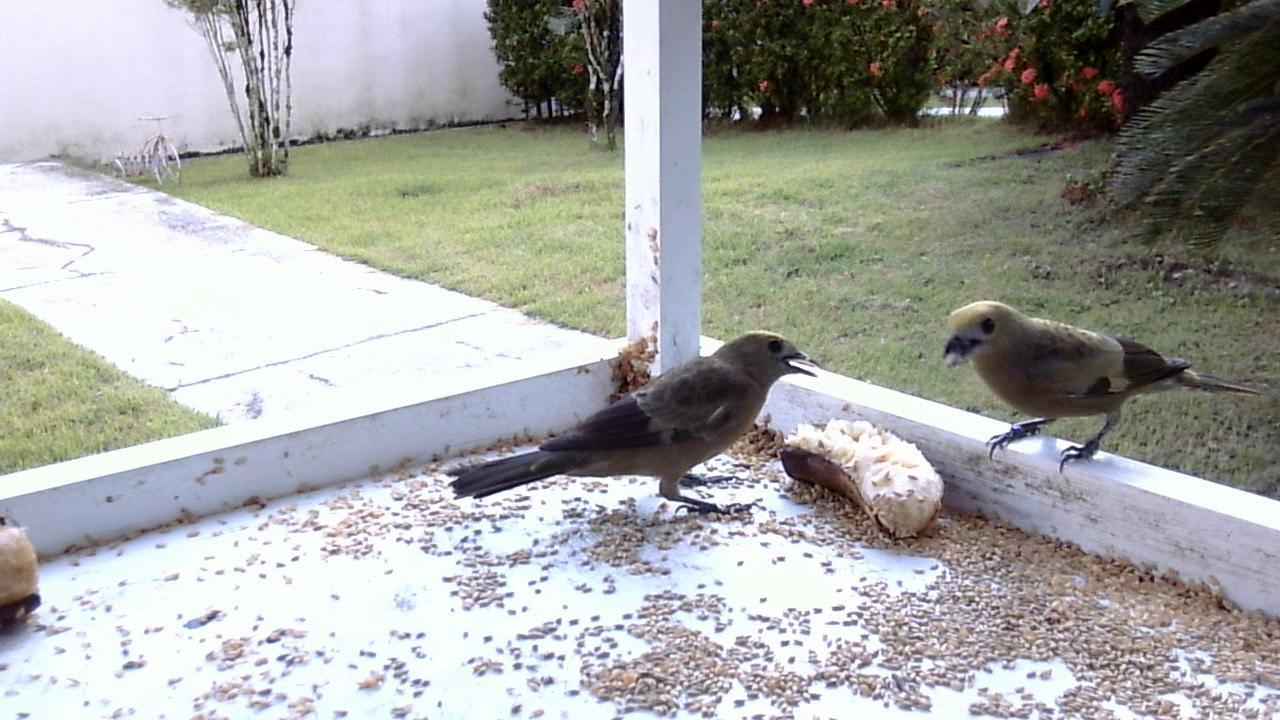sanhaco_do_coqueiro: (457, 330, 818, 526), (933, 297, 1264, 482)
